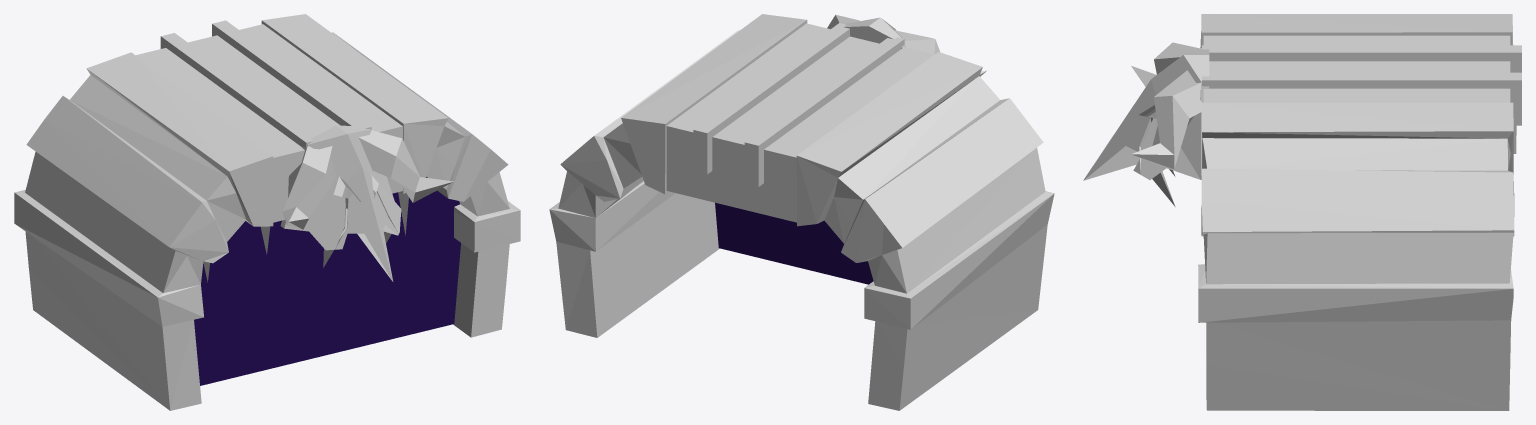
File: Cave_210330.fbx
The picture shows the model from 3 angles, left to right: view 1: azimuth 30°, elevation 25°; view 2: azimuth 150°, elevation 25°; view 3: azimuth 270°, elevation 25°; orthographic projection. The views are drawn at different scales.
Visible parts, largest first — view 1: Cone, Plane, Skull; view 2: Cone, Plane, Skull; view 3: Cone, Skull.
Part boxes in pixels (box(x1,y1,x2,y2)): Cone: box(14, 14, 520, 410); Plane: box(194, 177, 460, 385); Skull: box(280, 125, 453, 281); Cone: box(549, 14, 1054, 410); Plane: box(715, 202, 873, 284); Skull: box(827, 14, 987, 76); Cone: box(1152, 14, 1521, 410); Skull: box(1083, 42, 1209, 180).
Bounding box in the file's own units: 1833 × 1182 × 1755.
